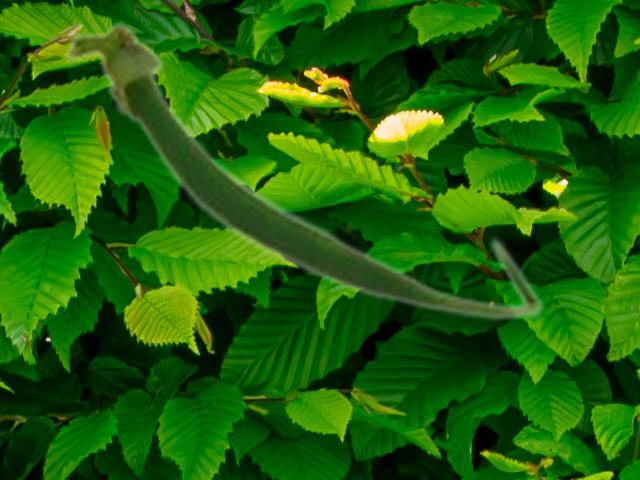french_bean: (61, 17, 545, 322)
